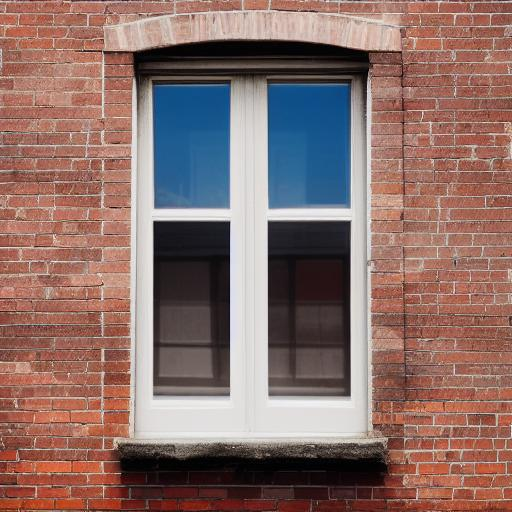Window: (103, 16, 405, 464)
